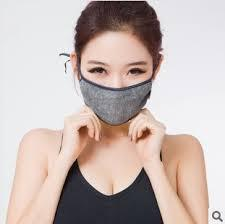OK: (76, 38, 159, 124)
